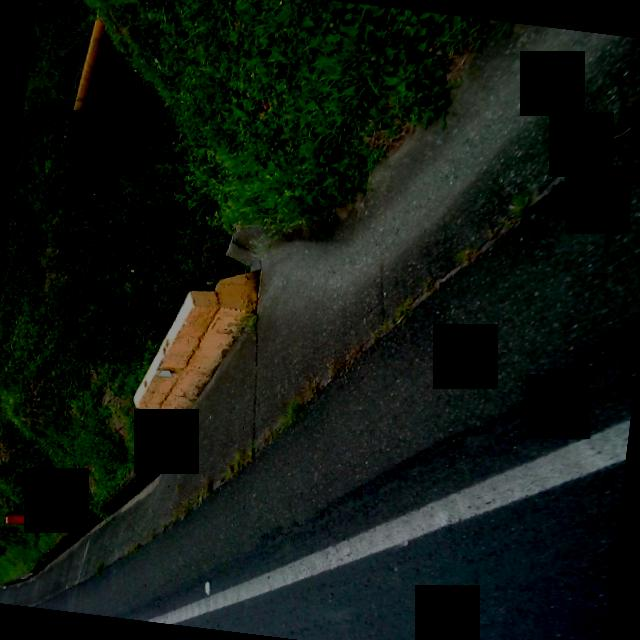DITCH: (0, 0, 640, 640), (34, 0, 640, 640)
